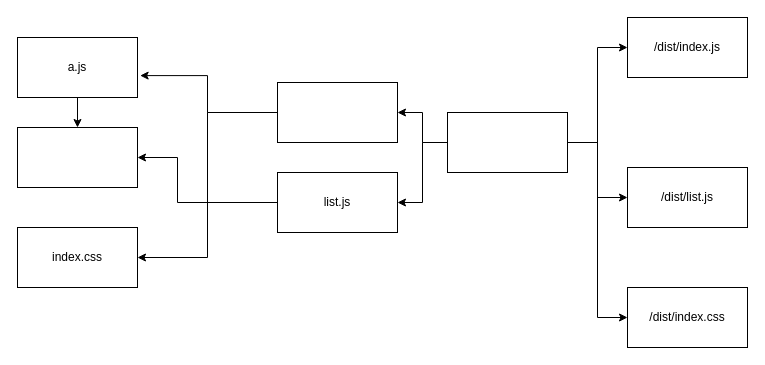
The diagram is 765 pixels wide and 365 high, and some of its shapes have lost their labels. The shapes that lost their labels are listed below. From the top down, each one's centre as x and y in pixels, then its label:
At point 337,112: "index.js".
At point 77,157: "b.js".
At point 507,142: "webpack".
